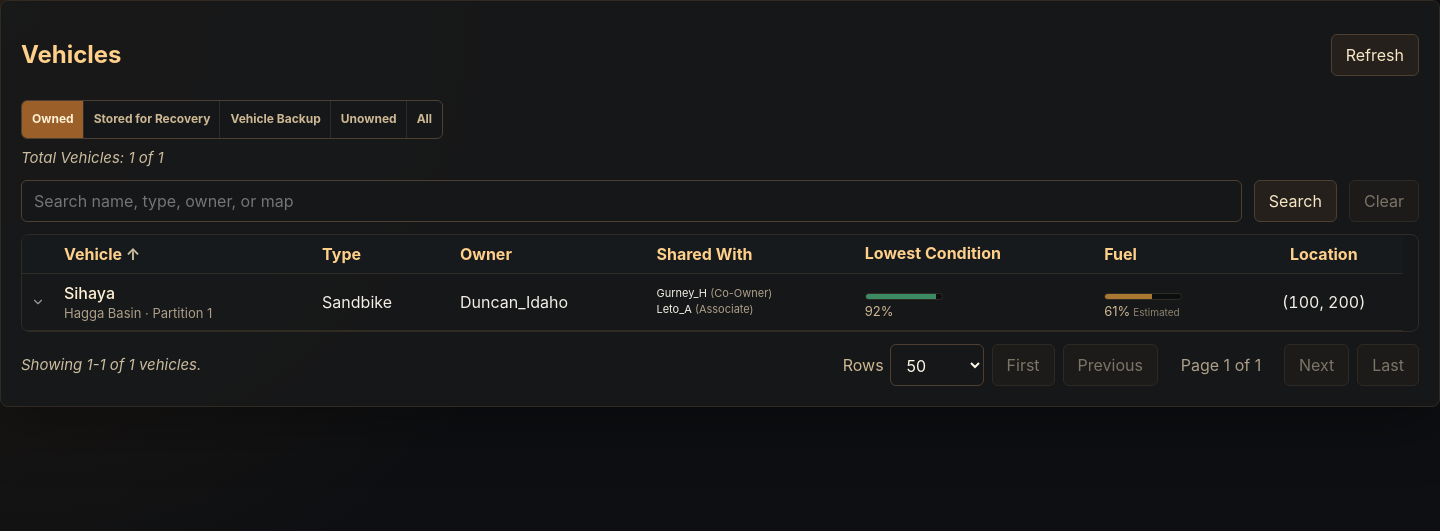
Test case: VehiclesPanel › shows 'Durability not reported' for a component with no durability data
This screenshot has width=1440, height=531.
What coordinates should you click on to do the following:
click the button named "Show components for Sihaya"
I would click on:
 (38, 302)
Its box is [26,290,50,314].
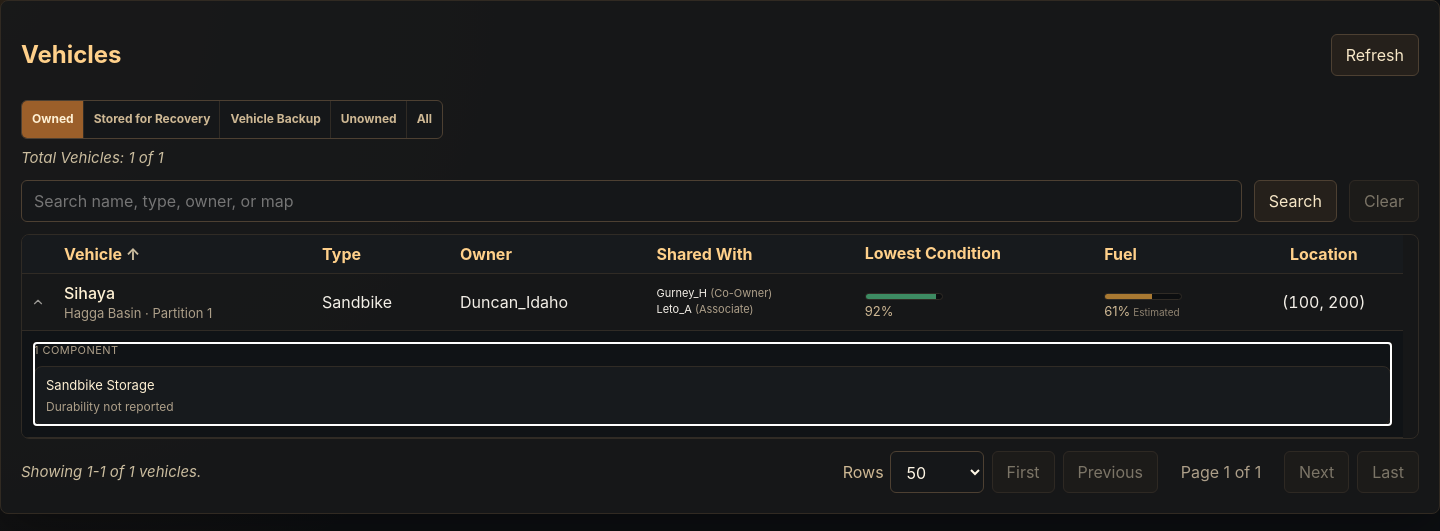
Now the text "Durability not reported" is shown, box [46,399,174,414]
